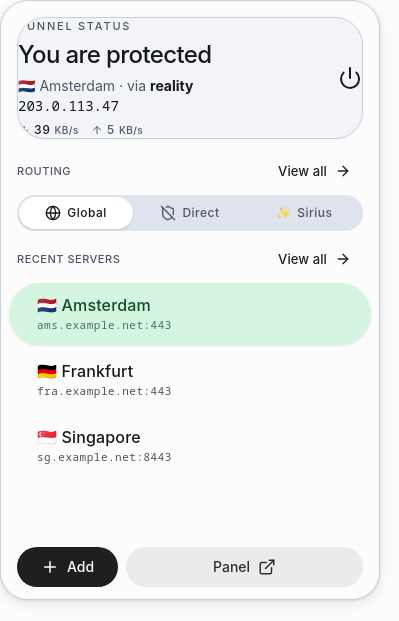
PopupMock, operated › switches the active server, and the hero follows it
Click the button "🇩🇪 Frankfurt fra.example.net:443": (85, 371) [9,349,371,411]
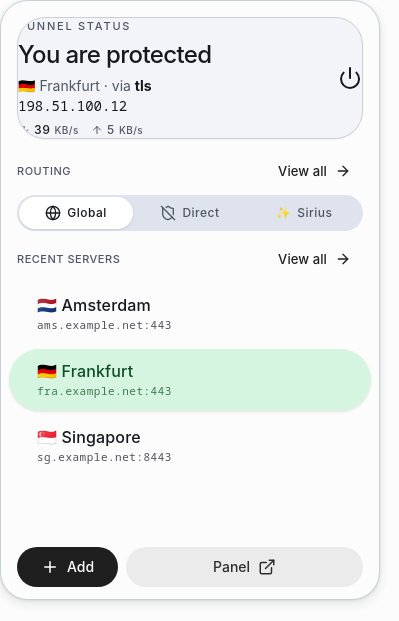
Expected: the text "198.51.100.12" is shown, [18,96,127,115]
Expected: the text "tls" is shown, [135,77,152,94]
